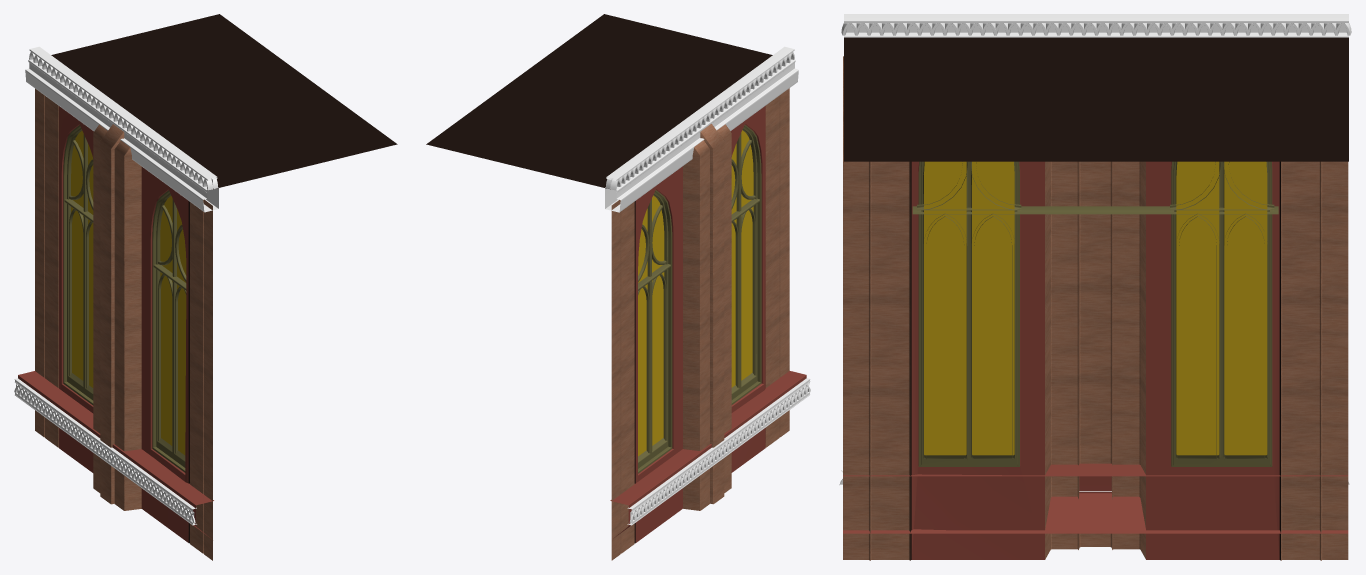
Rendered from Geonosis_Gallery01_TallWindow.fbx.
3 renders of one model, left to right at view 1: azimuth 30°, elevation 25°; view 2: azimuth 150°, elevation 25°; view 3: azimuth 270°, elevation 25°, orthographic. The views are drawn at different scales.
Visible parts, largest first — view 1: Geonosis_Gallery01_TallWindow; view 2: Geonosis_Gallery01_TallWindow; view 3: Geonosis_Gallery01_TallWindow.
Boxes of the visible parts, bbox=[...] form: Geonosis_Gallery01_TallWindow: bbox=[14, 14, 397, 560]; Geonosis_Gallery01_TallWindow: bbox=[426, 14, 810, 560]; Geonosis_Gallery01_TallWindow: bbox=[839, 14, 1351, 560].
Size of the model in its own units: 666 by 1185 by 1014.
